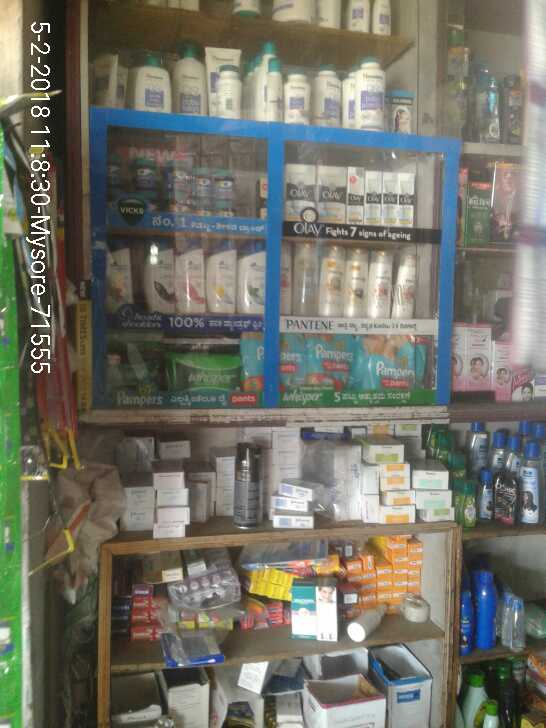beauty: (288, 239, 323, 317), (141, 242, 176, 314), (207, 240, 239, 315), (239, 236, 268, 317), (365, 244, 392, 321), (176, 246, 203, 316), (285, 161, 315, 224), (318, 159, 344, 227), (395, 249, 418, 321), (320, 249, 344, 316), (347, 245, 365, 317), (343, 167, 365, 223), (378, 167, 398, 226), (395, 169, 415, 227), (364, 161, 380, 226)
pharmacy: (240, 333, 300, 399), (166, 349, 241, 396), (362, 333, 421, 392), (104, 338, 165, 394), (303, 332, 354, 392), (162, 157, 190, 194), (130, 152, 155, 188), (212, 170, 239, 198), (192, 168, 210, 200), (105, 155, 128, 177)
